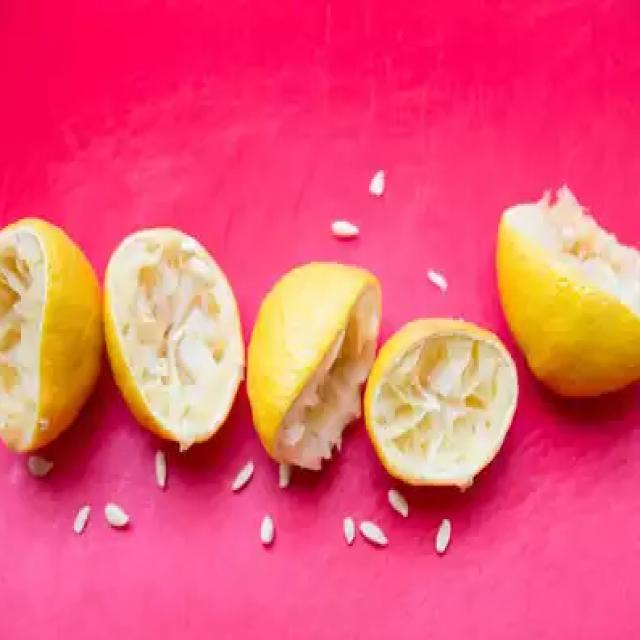organic: (104, 227, 246, 450), (494, 186, 640, 394), (244, 260, 384, 469), (364, 316, 519, 490), (0, 217, 103, 455)
